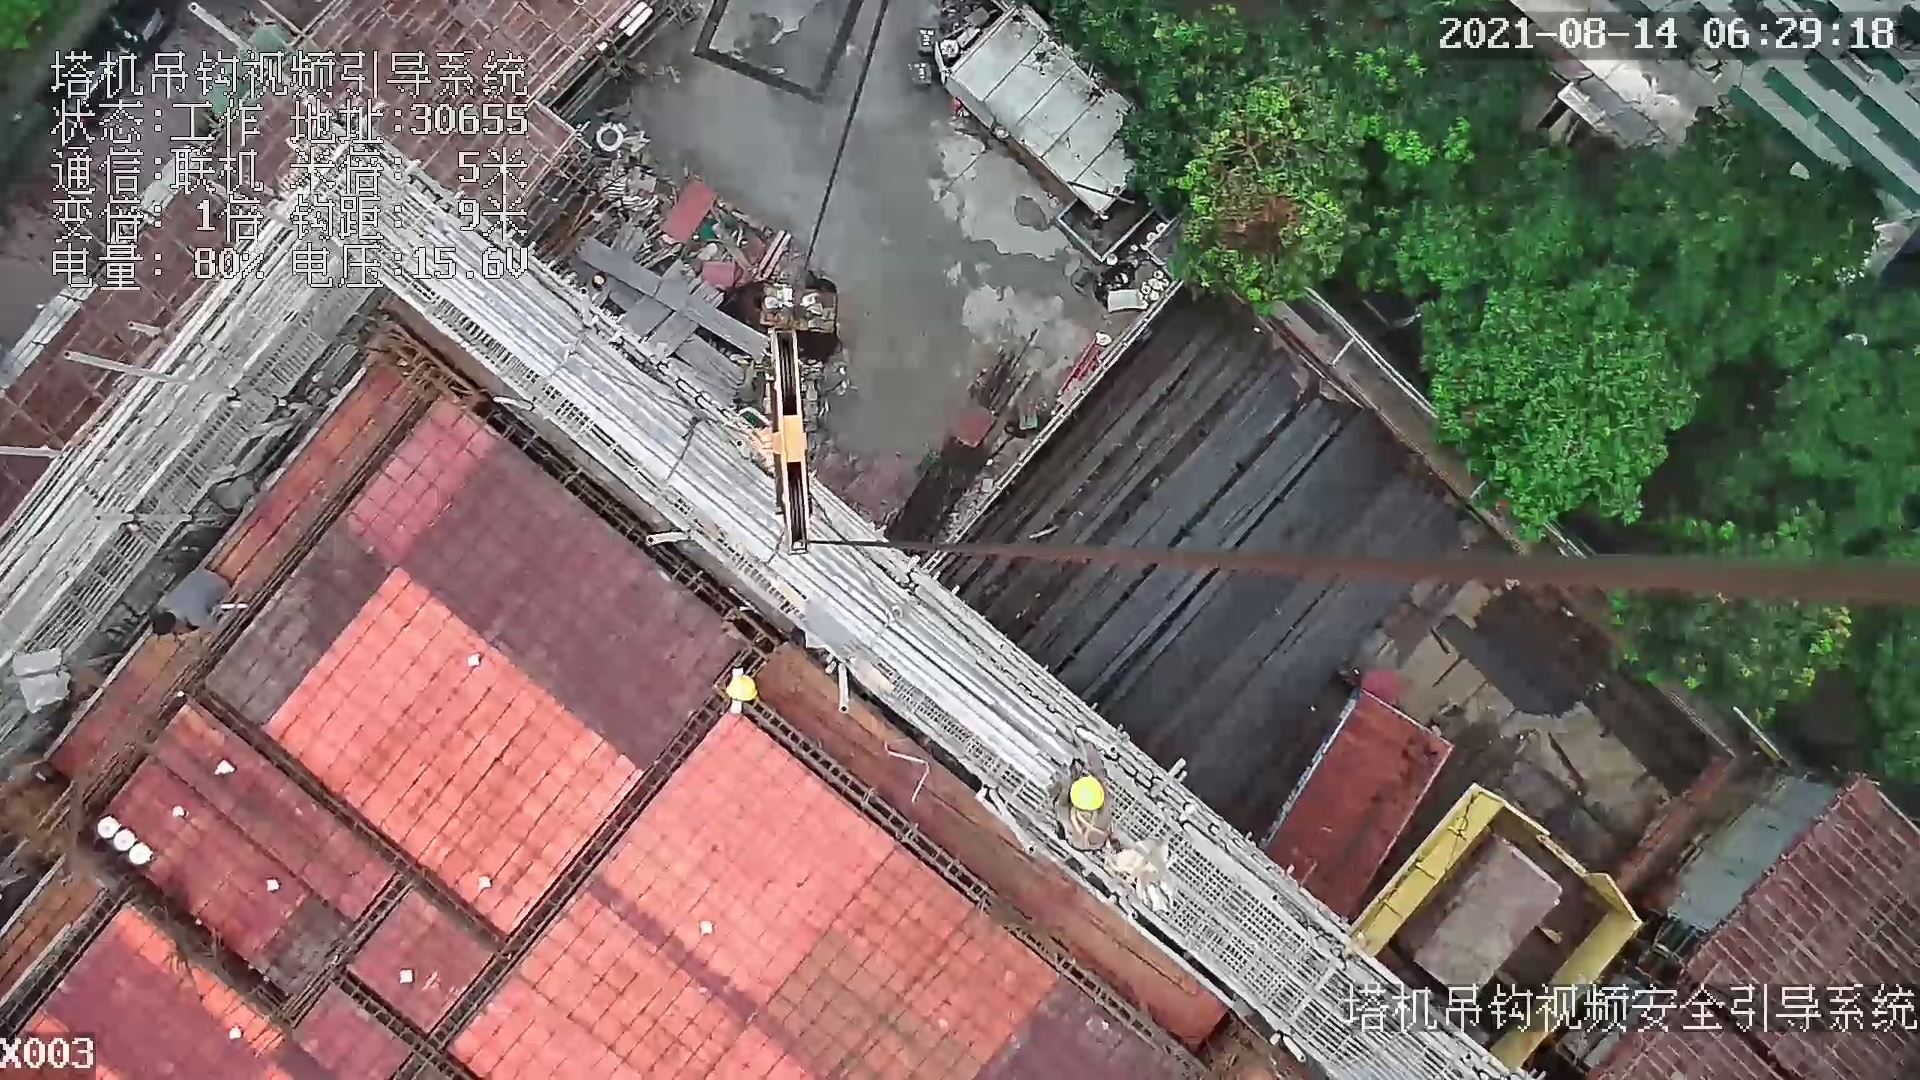helmet: (1062, 771, 1110, 817), (722, 671, 762, 709)
hook: (760, 330, 824, 549)
person: (1046, 732, 1118, 853)
rebar: (976, 285, 1450, 749)
